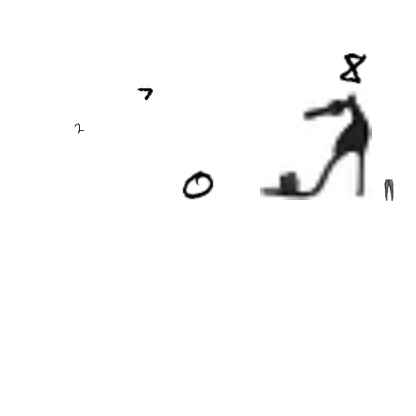0: (177, 163, 219, 205)
2: (72, 121, 86, 135)
7: (135, 81, 157, 103)
8: (331, 46, 373, 88)
Sandal: (260, 88, 372, 200)
Trouser: (378, 179, 400, 201)
